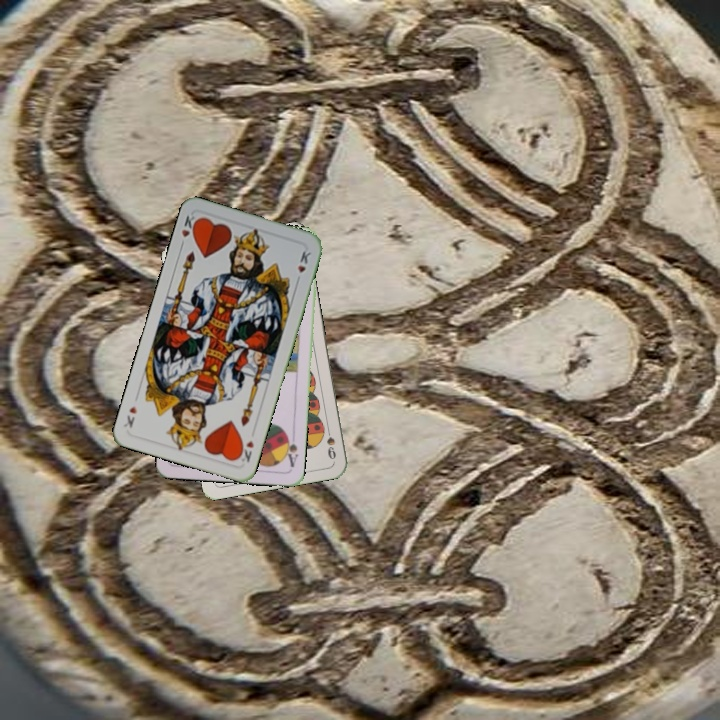HK: (176, 211, 202, 250), (233, 436, 256, 465)
S9: (323, 422, 339, 462)
SA: (281, 429, 301, 470)
